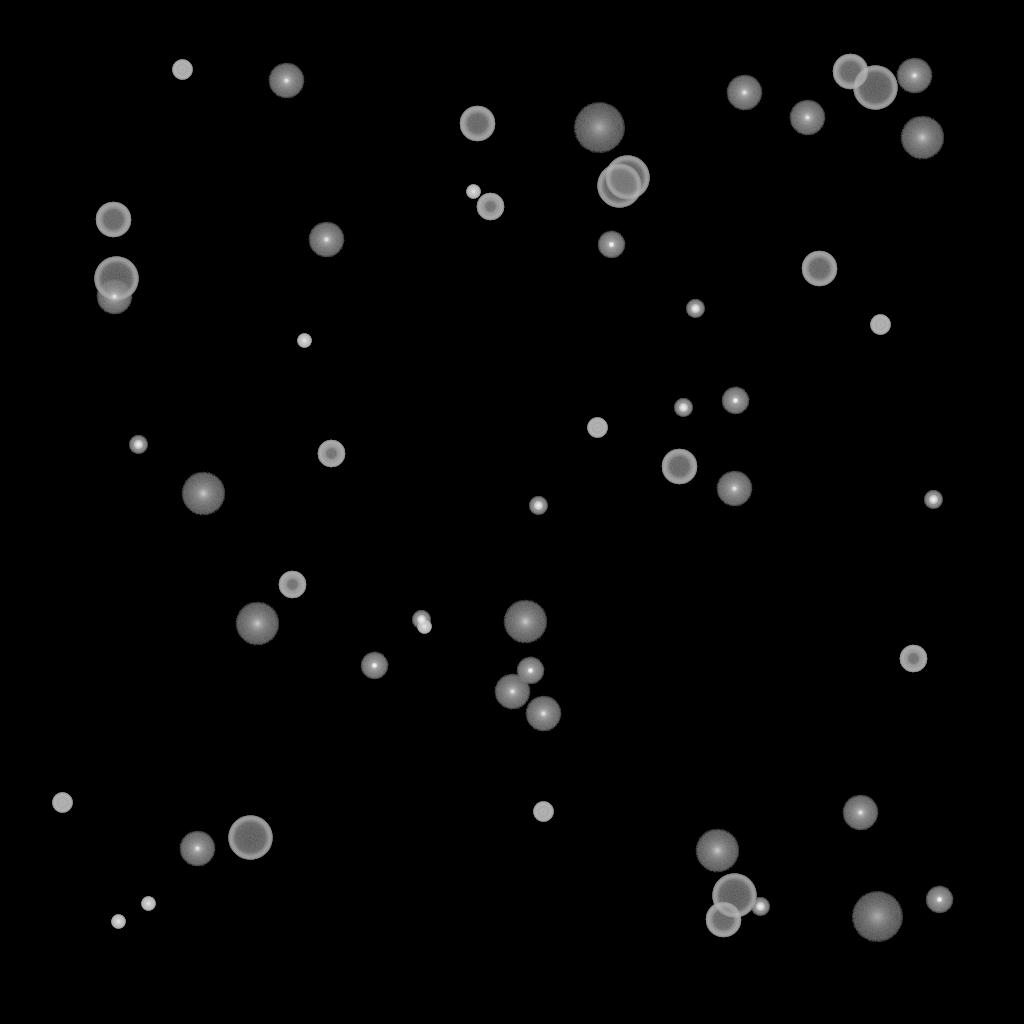depth:-10: (516, 657, 544, 685), (925, 886, 953, 914), (721, 387, 749, 415), (360, 652, 388, 680), (597, 231, 625, 259)
depth:-20: (412, 611, 430, 629), (129, 436, 147, 454), (674, 399, 692, 417), (924, 491, 942, 509), (529, 497, 547, 515), (751, 898, 769, 916), (686, 300, 704, 318)
depth:-30: (141, 897, 155, 911), (111, 915, 125, 929), (466, 185, 480, 199), (417, 620, 431, 634), (297, 334, 311, 348)
depth:-40: (870, 315, 890, 335), (52, 793, 72, 813), (533, 802, 553, 822), (172, 60, 192, 80), (587, 418, 607, 438)
depth:-50: (476, 193, 504, 221), (899, 645, 927, 673), (278, 571, 306, 599), (317, 440, 345, 468)
depth:-60: (832, 54, 868, 90), (705, 902, 741, 938), (801, 251, 837, 287), (661, 449, 697, 485), (95, 202, 131, 238), (459, 106, 495, 142)
depth:-70: (597, 164, 641, 208), (712, 874, 756, 918), (853, 66, 897, 110), (228, 816, 272, 860), (94, 257, 138, 301), (605, 156, 649, 200)
depth:0: (96, 279, 132, 315), (525, 696, 561, 732), (896, 58, 932, 94), (726, 75, 762, 111), (789, 100, 825, 136), (268, 63, 304, 99), (716, 471, 752, 507), (842, 795, 878, 831), (308, 222, 344, 258), (494, 674, 530, 710), (179, 831, 215, 867)
depth:10: (695, 829, 739, 873), (900, 116, 944, 160), (503, 600, 547, 644), (235, 602, 279, 646), (181, 472, 225, 516)
depth:20: (851, 892, 903, 942), (573, 103, 625, 153)
